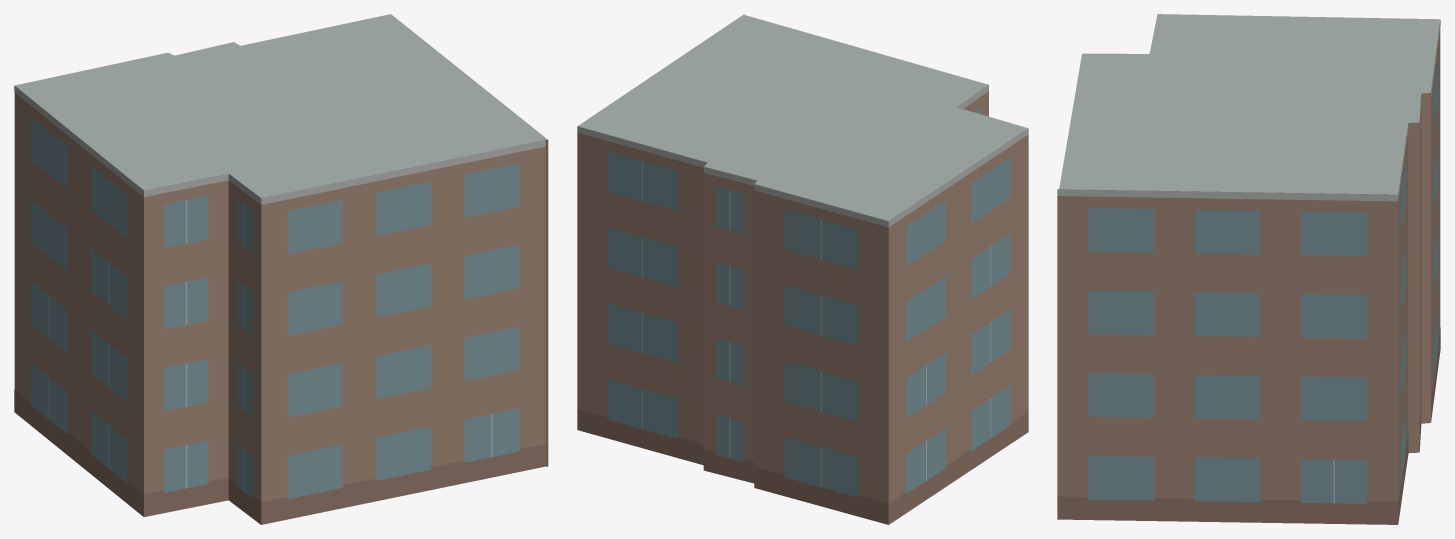
Rendered from survey-upis-32770746.glb.
The picture shows the model from 3 angles, left to right: view 1: azimuth 30°, elevation 25°; view 2: azimuth 150°, elevation 25°; view 3: azimuth 270°, elevation 25°; orthographic projection. The views are drawn at different scales.
Visible parts, largest first — view 1: survey-upis-32770746.tmp; view 2: survey-upis-32770746.tmp; view 3: survey-upis-32770746.tmp.
Boxes of the visible parts, left/top/right/bottom form: survey-upis-32770746.tmp: left=14, top=14, right=548, bottom=524; survey-upis-32770746.tmp: left=577, top=14, right=1028, bottom=524; survey-upis-32770746.tmp: left=1057, top=14, right=1440, bottom=524.
Bounding box in the file's own units: 13.85 × 11.8 × 12.41.
